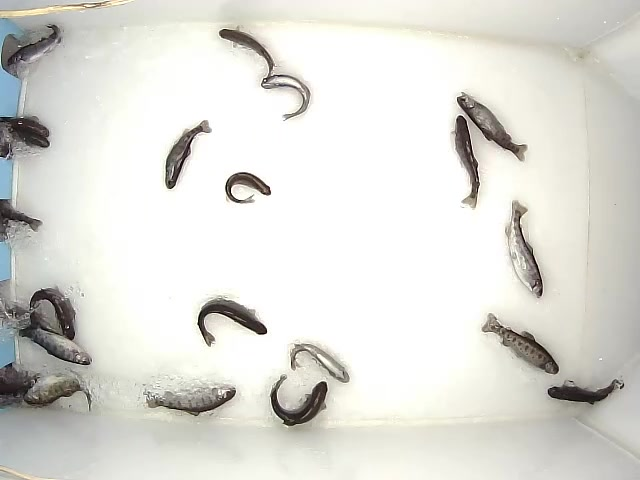fish: (456, 91, 528, 162), (481, 312, 560, 376), (504, 199, 544, 299), (196, 298, 268, 347), (218, 24, 280, 79), (165, 119, 213, 190), (15, 325, 93, 366), (143, 383, 237, 417), (270, 373, 328, 427), (450, 115, 480, 210), (23, 372, 93, 412), (28, 285, 77, 341), (7, 23, 63, 68), (290, 343, 351, 384), (261, 74, 311, 121), (225, 171, 272, 204)
